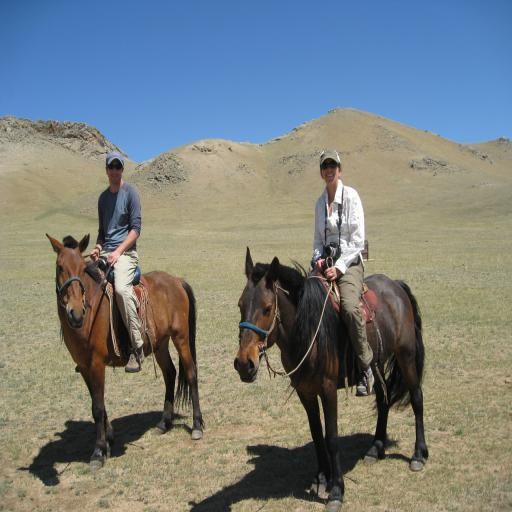horse: (232, 244, 430, 512), (44, 230, 206, 473)
